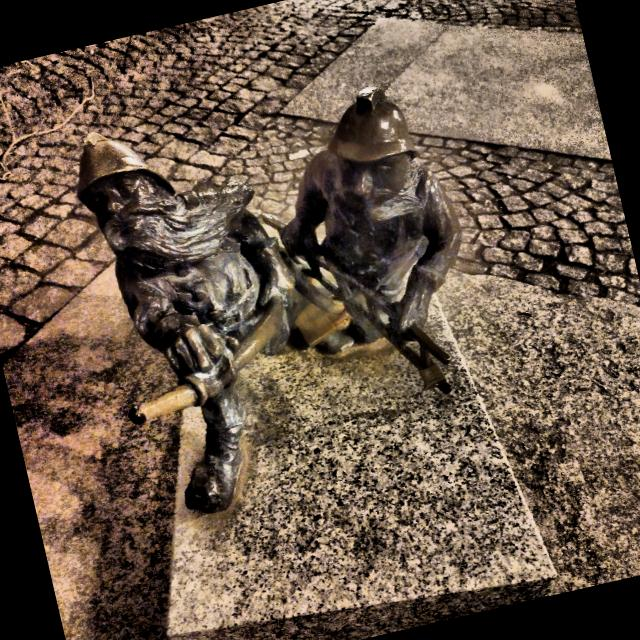Pozarki: (76, 89, 461, 515)
